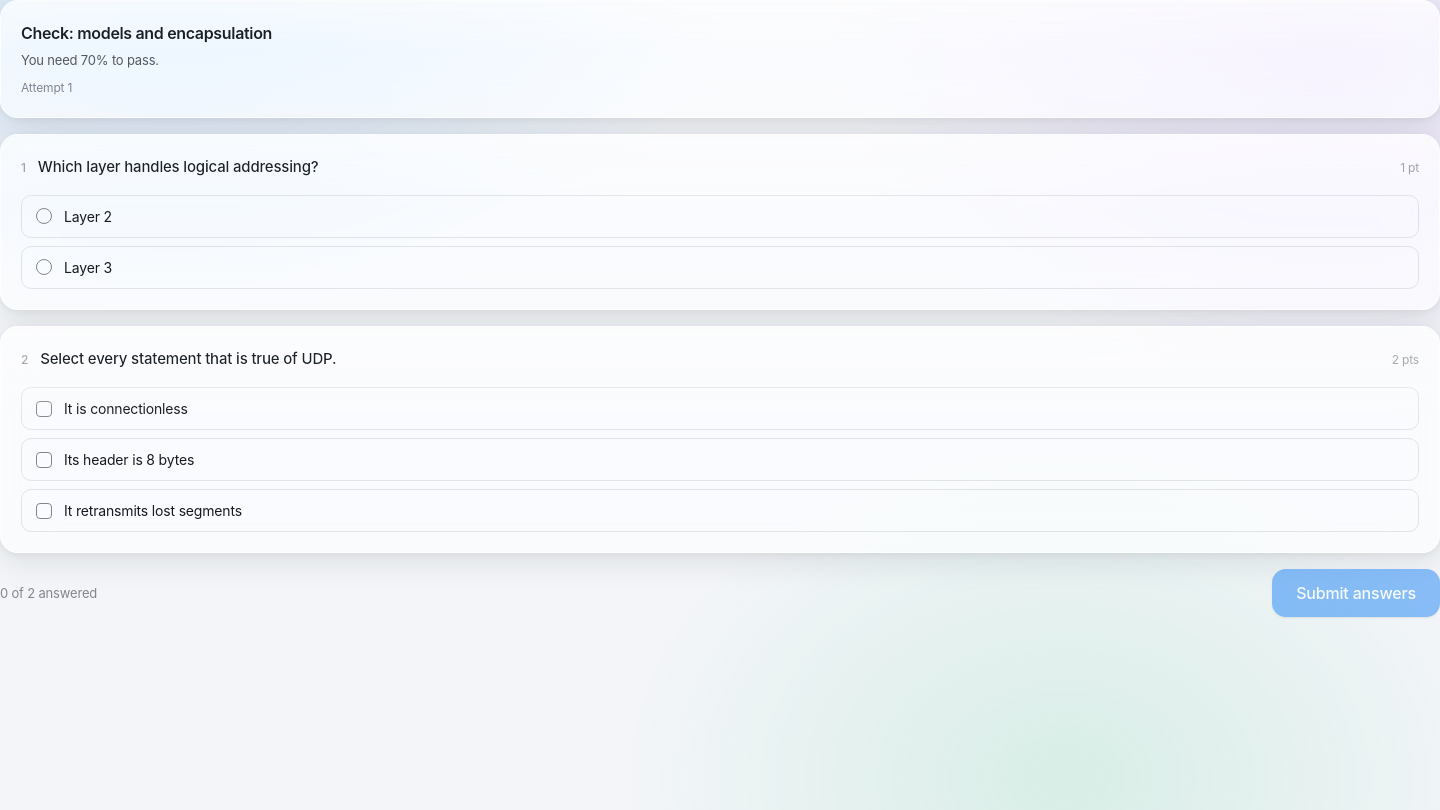
QuizRunner › reveals explanations and correct answers only after grading
Click the radio button labelled "Layer 3": (88, 267) [21,246,1419,289]
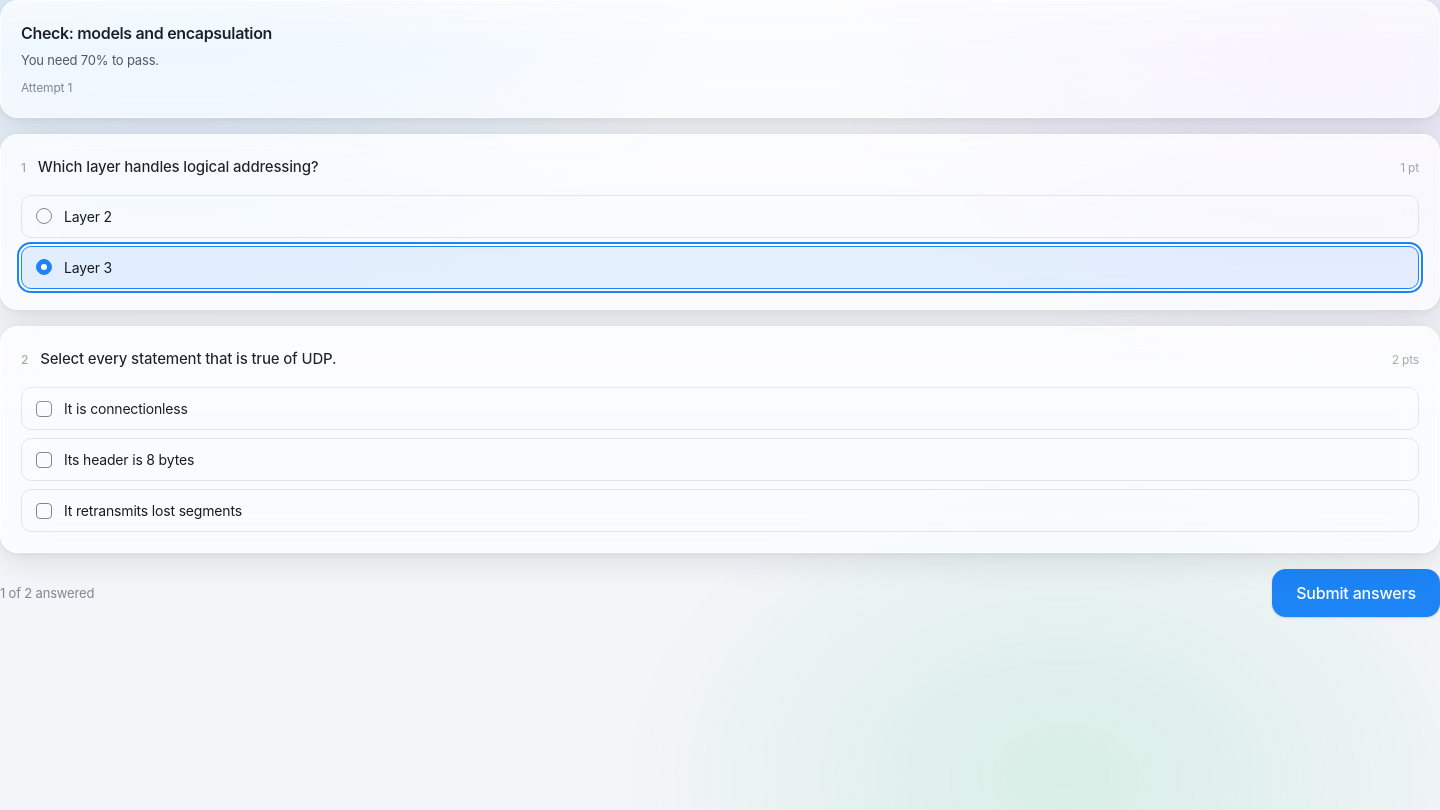
Click the button "Submit answers": (1356, 593) [1272,569,1439,617]
(page scrolled)
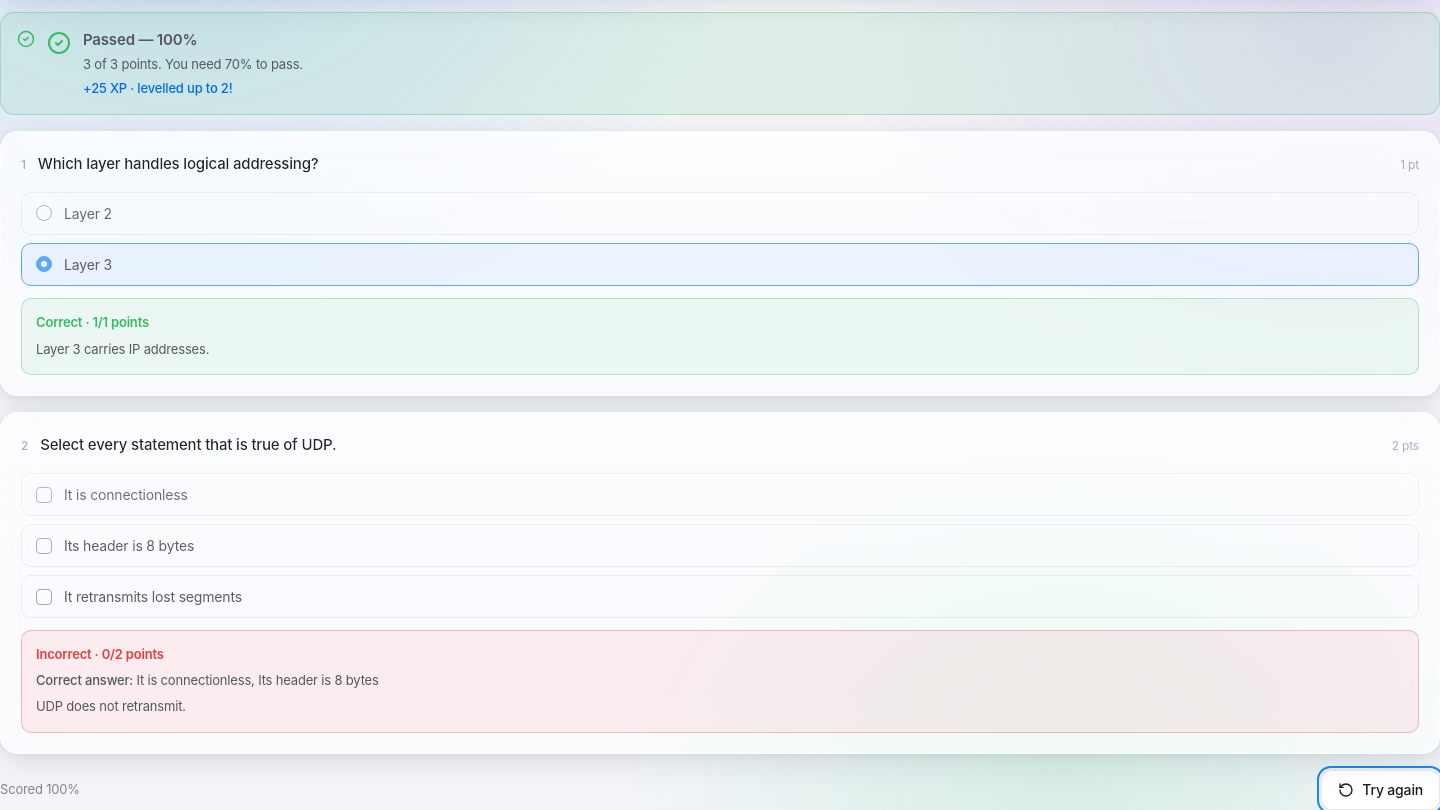
Check: the text "Layer 3 carries IP addresses." is shown, box [36,341,209,357]
Check: the text "UDP does not retransmit." is shown, box [36,698,186,714]
Check: the text "Correct answer: It is connectionless, Its header is 8 bytes" is shown, box [36,672,379,688]
